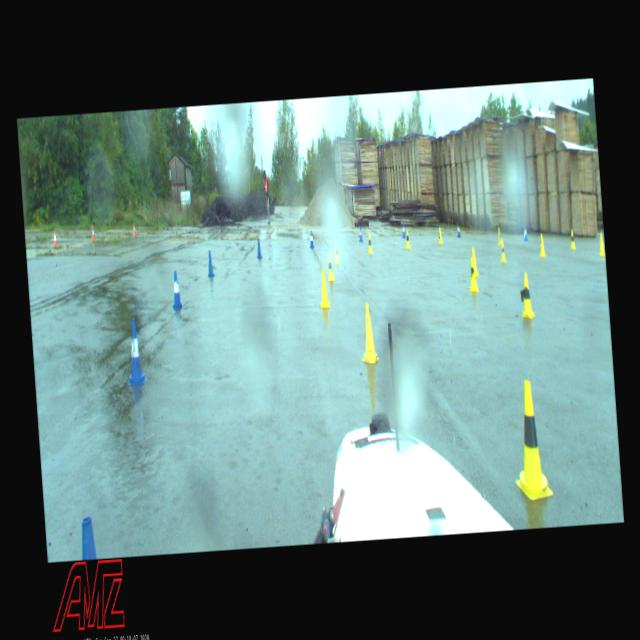blue_cone: (124, 317, 146, 386), (170, 270, 182, 310), (206, 250, 214, 277), (255, 238, 262, 258), (308, 230, 314, 248), (522, 224, 528, 241), (400, 222, 406, 238), (358, 224, 363, 242), (456, 222, 461, 237)
orange_cone: (52, 230, 58, 248), (90, 225, 95, 241), (132, 222, 136, 235)
yellow_cone: (508, 380, 554, 502), (358, 302, 380, 363), (518, 272, 536, 318), (318, 266, 330, 310), (466, 254, 478, 292), (325, 252, 335, 281), (498, 238, 507, 262), (332, 240, 340, 264), (597, 233, 605, 257), (538, 234, 546, 257), (568, 229, 576, 250), (472, 248, 478, 276), (366, 233, 373, 254), (404, 228, 410, 248), (495, 227, 501, 245), (437, 227, 443, 244)
